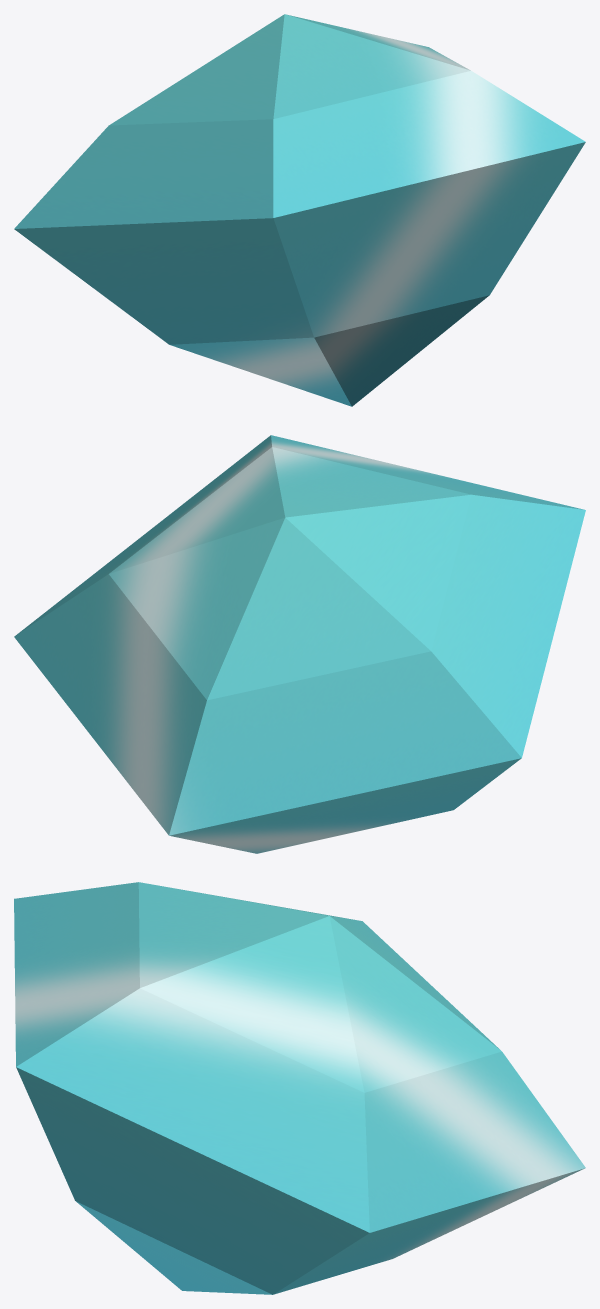
The model's file is Mythill_10.glb.
The picture shows the model from 3 angles, top to bottom: view 1: azimuth 30°, elevation 25°; view 2: azimuth 150°, elevation 25°; view 3: azimuth 270°, elevation 25°; orthographic projection. The views are drawn at different scales.
Parts seen in each view (by area): view 1: Mythrill10; view 2: Mythrill10; view 3: Mythrill10.
Part boxes in pixels (<box>): Mythrill10: <box>14,14,585,406</box>; Mythrill10: <box>14,435,585,853</box>; Mythrill10: <box>14,882,585,1294</box>.
Size of the model in its own units: 0.5567 by 0.3611 by 0.4992.
Materials: 1 (1 with a texture image).
